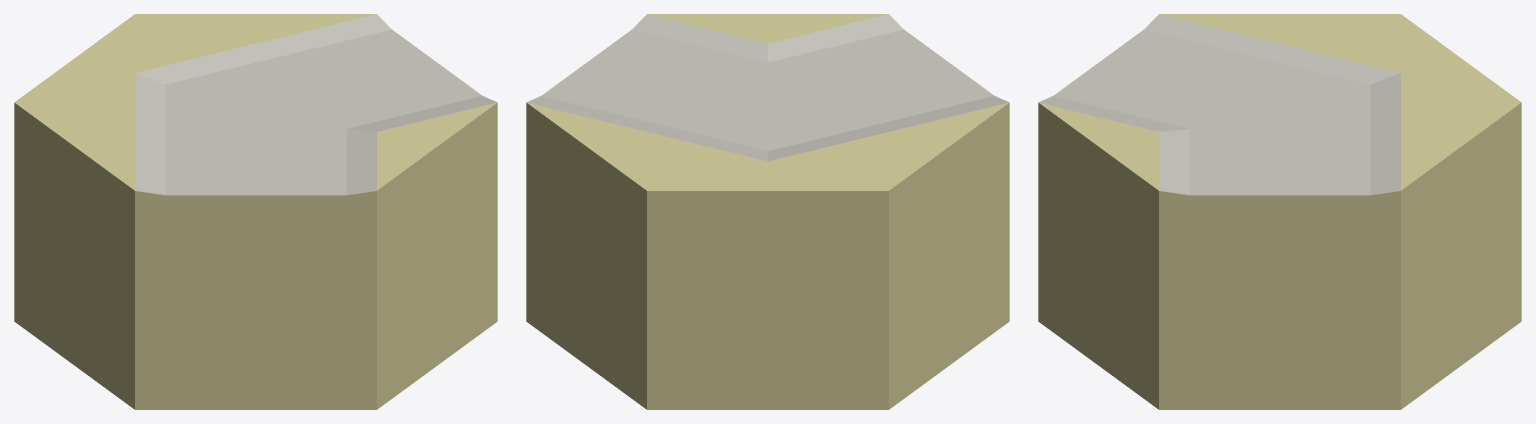
File: sand_road2.fbx
3 views of the same model, side by side, from view 1: azimuth 30°, elevation 25°; view 2: azimuth 150°, elevation 25°; view 3: azimuth 270°, elevation 25° (orthographic).
Parts seen in each view (by area): view 1: Cylinder; view 2: Cylinder; view 3: Cylinder.
Part boxes in pixels (left/top/right/bottom): Cylinder: left=14, top=14, right=497, bottom=409; Cylinder: left=526, top=14, right=1009, bottom=409; Cylinder: left=1038, top=14, right=1521, bottom=409.
Bounding box in the file's own units: 1.73 × 1 × 2.
